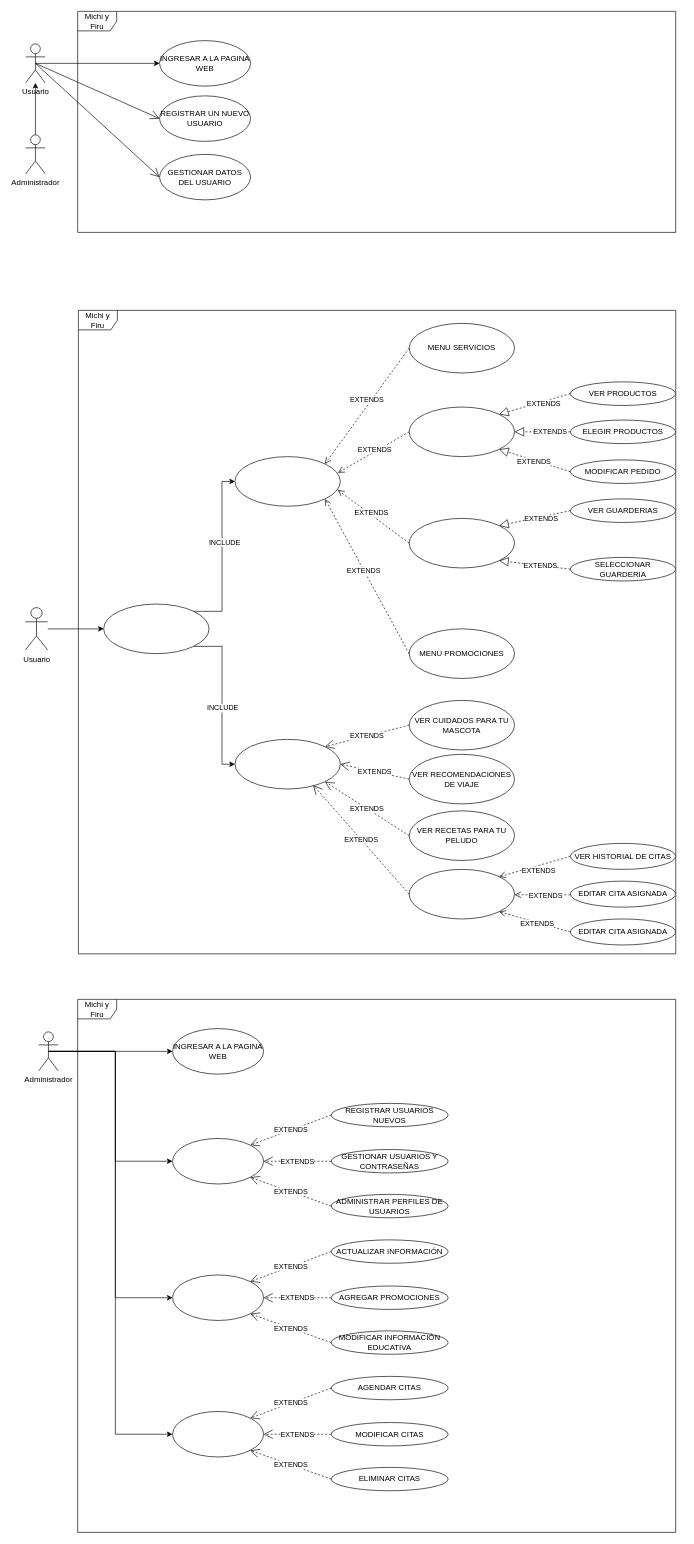
Some shapes in this 694 by 1544 pixel diagram are drawn without their labels. Here are the shapes that lost their labels. From the top down, the box of each, then its label:
(409, 406, 515, 457): MENU PRODUCTOS
(234, 456, 340, 506): NAVEGAR A TRAVÉS DE MENÚS
(409, 518, 515, 568): MENU GUARDERÍA
(103, 603, 209, 654): VISUALIZAR PAGINA WEB
(234, 739, 340, 789): Visualizar contenido
(409, 869, 515, 919): REALIZAR ASIGNACIÓN DE CITAS
(172, 1138, 264, 1184): GESTIONAR INFORMACIÓN DE LOS USUARIOS
(172, 1274, 264, 1320): GESTIONAR INFORMACIÓN DE LA PAGINA WEB
(172, 1411, 264, 1457): GESTIONAR CITAS MÉDICAS
